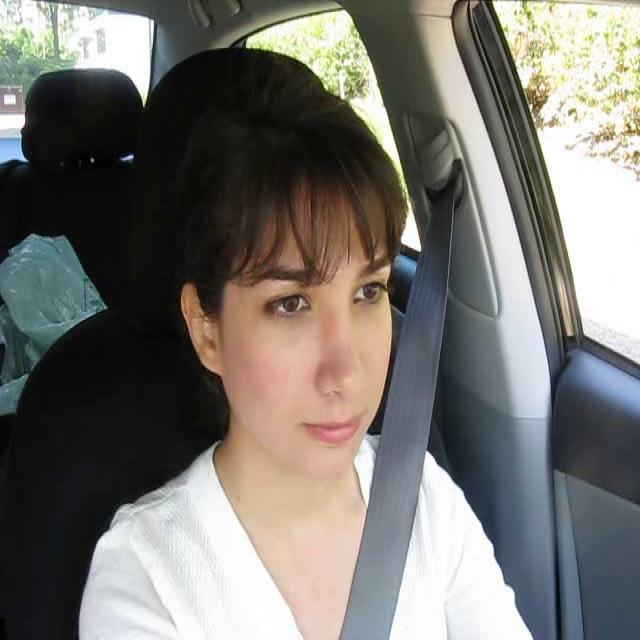close: (300, 408, 364, 448)
